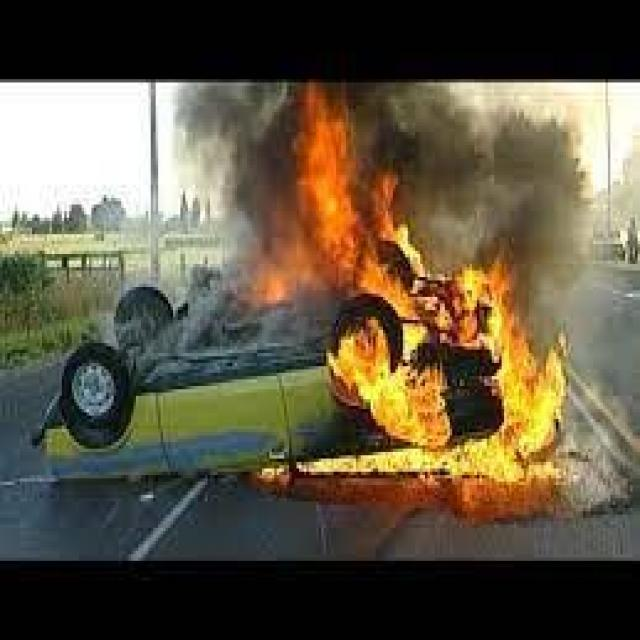accident: (37, 269, 524, 490)
